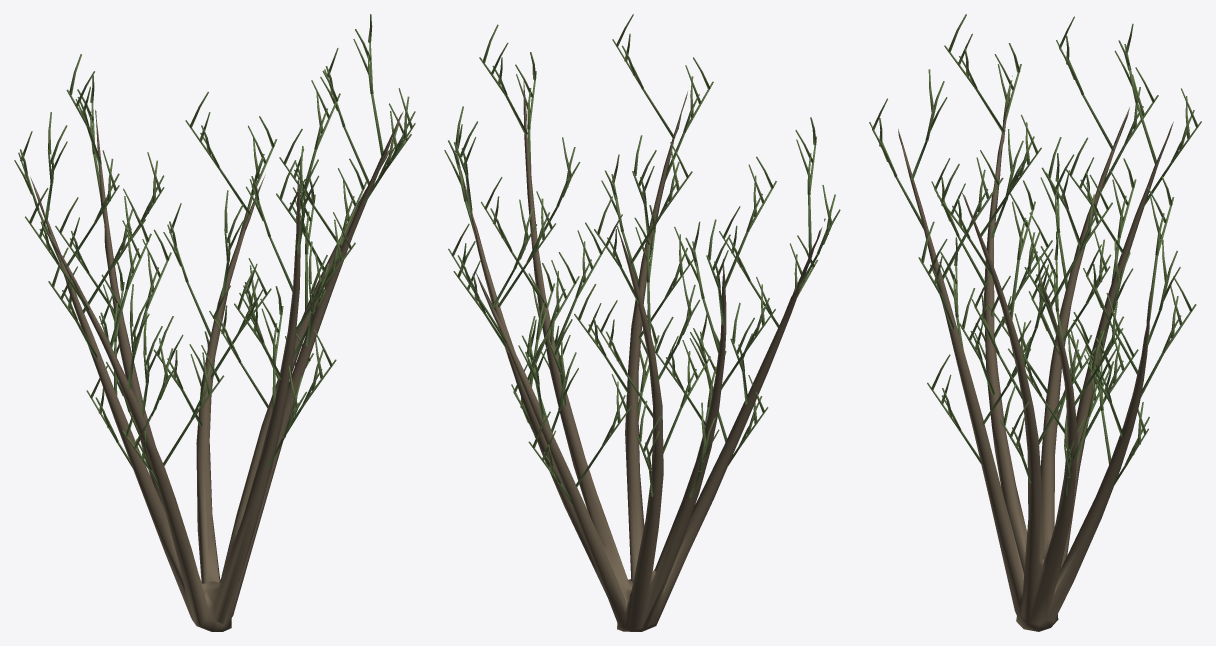
The model's file is Bruyere_2_Niveau0.fbx.
The picture shows the model from 3 angles, left to right: view 1: azimuth 30°, elevation 25°; view 2: azimuth 150°, elevation 25°; view 3: azimuth 270°, elevation 25°; orthographic projection. The views are drawn at different scales.
Parts seen in each view (by area): view 1: Bruyere_2_Niveau0_Jeu; view 2: Bruyere_2_Niveau0_Jeu; view 3: Bruyere_2_Niveau0_Jeu.
Boxes of the visible parts, box(x1,y1,x2,y2) form: Bruyere_2_Niveau0_Jeu: box(14, 14, 415, 631); Bruyere_2_Niveau0_Jeu: box(444, 14, 840, 631); Bruyere_2_Niveau0_Jeu: box(869, 14, 1201, 631).
Bounding box in the file's own units: 151 × 216 × 112.
